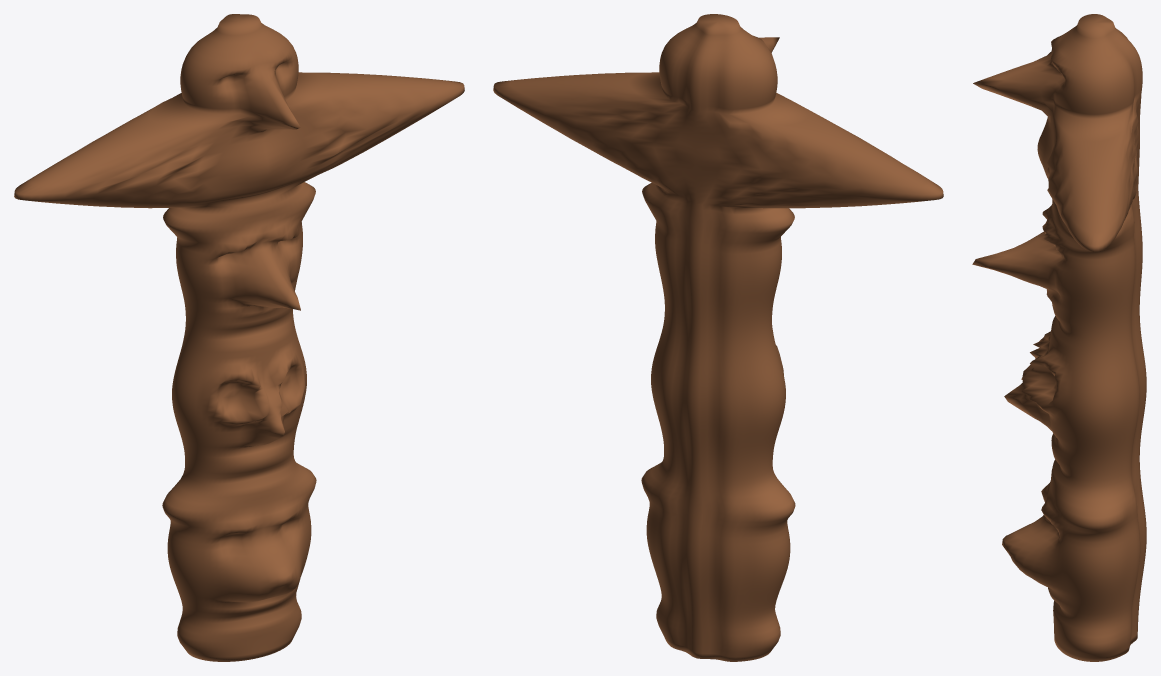
File: NEW_RECOVERY_126_LOD2.fbx
3 renders of one model, left to right at view 1: azimuth 30°, elevation 25°; view 2: azimuth 150°, elevation 25°; view 3: azimuth 270°, elevation 25°, orthographic.
Visible parts, largest first — view 1: Original_stacked_animal_pole; view 2: Original_stacked_animal_pole; view 3: Original_stacked_animal_pole.
Boxes of the visible parts, x1,y1,x2,y2 form: Original_stacked_animal_pole: [14, 14, 464, 661]; Original_stacked_animal_pole: [493, 14, 943, 661]; Original_stacked_animal_pole: [972, 14, 1146, 661].
Size of the model in its own units: 385 by 131 by 510.
